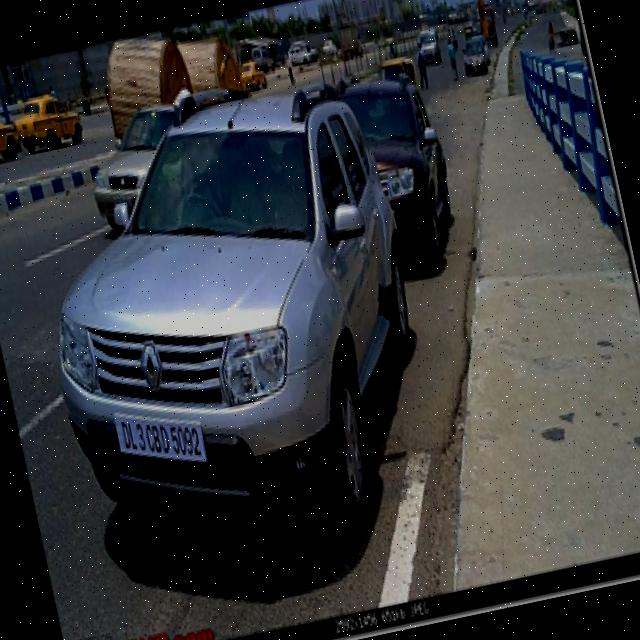Autre: (108, 417, 207, 463)
